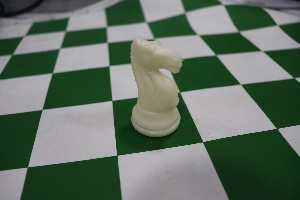white_horse: (116, 26, 191, 145)
